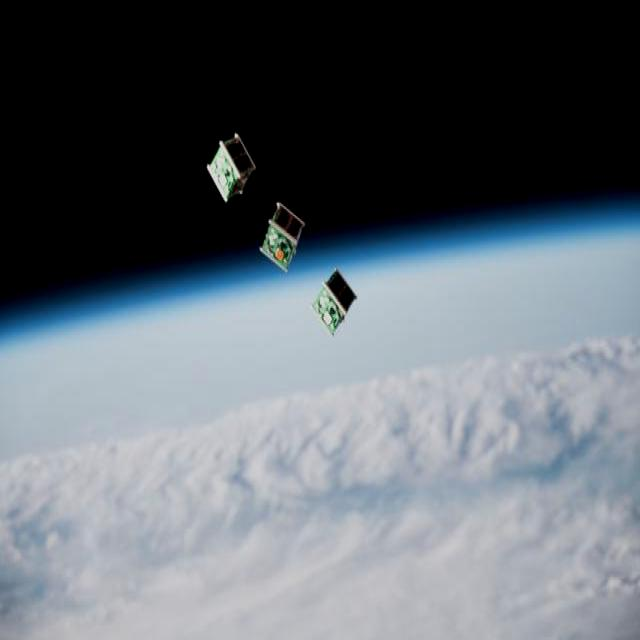medium_debris: (206, 133, 256, 202), (260, 201, 305, 271), (314, 270, 356, 334)
